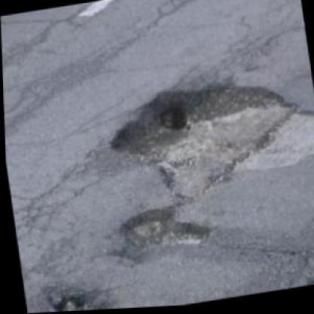Hueco: (100, 70, 306, 212), (109, 199, 210, 259), (38, 273, 118, 312)
